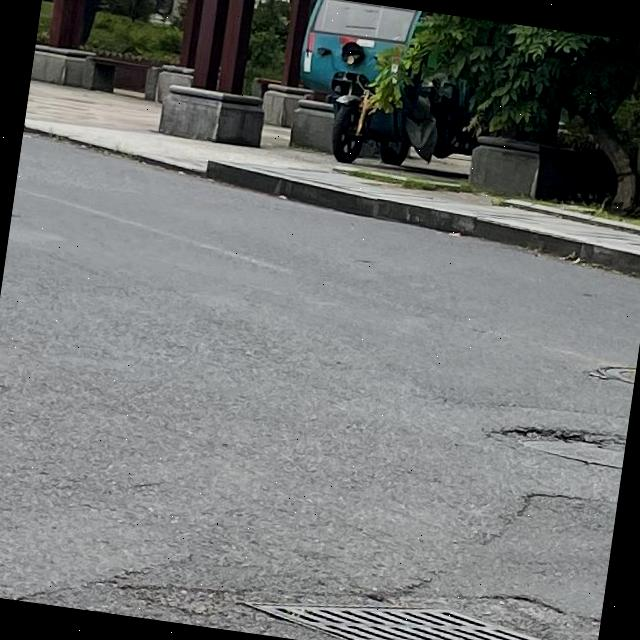curb: (206, 163, 640, 275), (23, 124, 203, 175)
